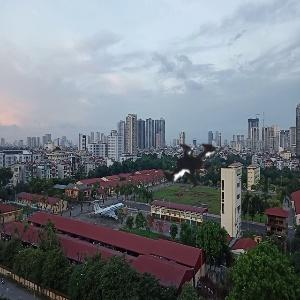drone: (124, 94, 293, 263)
